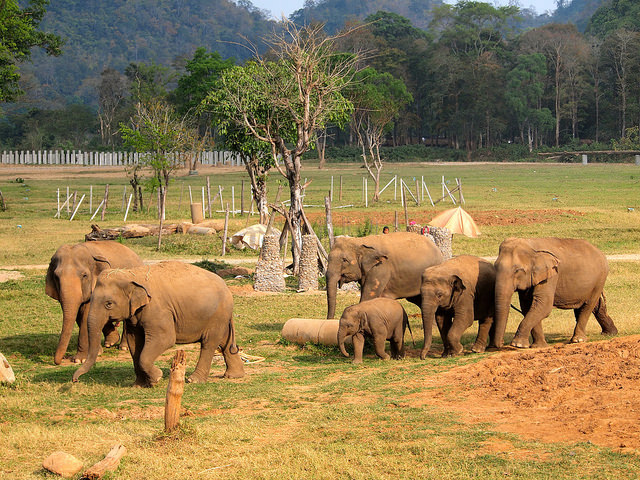elephant: (71, 257, 257, 395), (489, 232, 629, 354), (38, 236, 147, 369), (321, 228, 450, 334), (416, 249, 511, 368), (328, 293, 419, 368)
